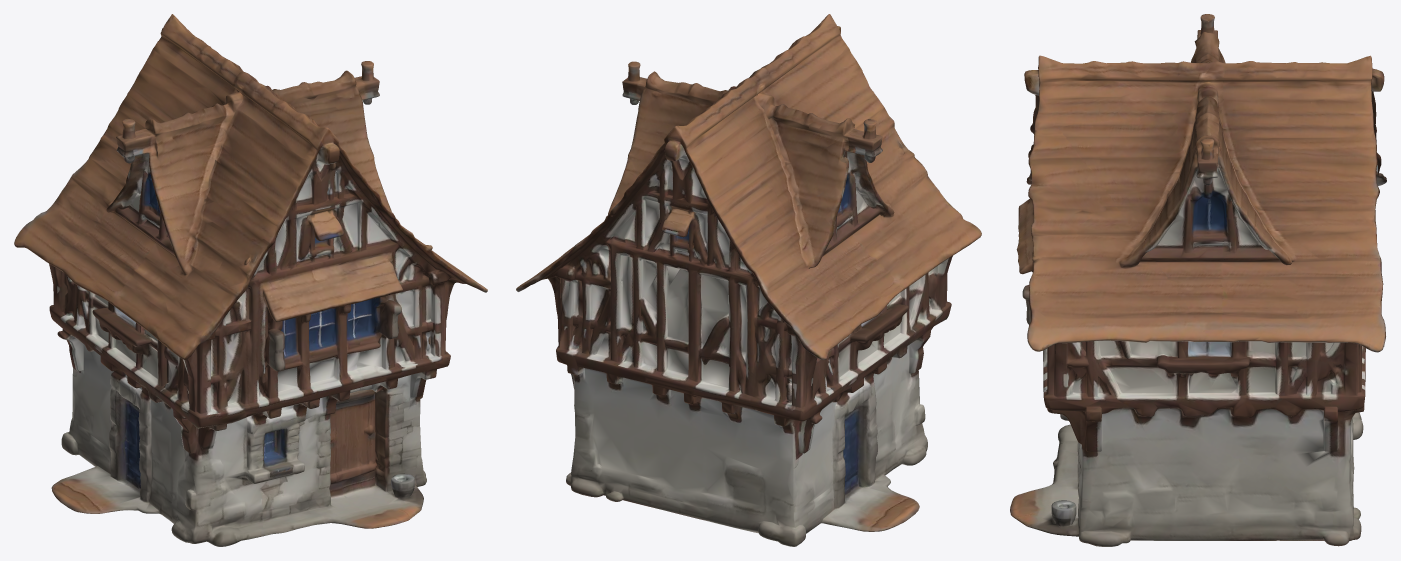
The model's file is casa.glb.
The picture shows the model from 3 angles, left to right: view 1: azimuth 30°, elevation 25°; view 2: azimuth 150°, elevation 25°; view 3: azimuth 270°, elevation 25°; orthographic projection. The views are drawn at different scales.
Visible parts, largest first — view 1: tripo_node_603a3289-d8e4-44f1-99cd-7f3e92ea4356; view 2: tripo_node_603a3289-d8e4-44f1-99cd-7f3e92ea4356; view 3: tripo_node_603a3289-d8e4-44f1-99cd-7f3e92ea4356.
Part boxes in pixels (x1,y1,x2,y2): tripo_node_603a3289-d8e4-44f1-99cd-7f3e92ea4356: (14, 14, 487, 546); tripo_node_603a3289-d8e4-44f1-99cd-7f3e92ea4356: (516, 14, 981, 546); tripo_node_603a3289-d8e4-44f1-99cd-7f3e92ea4356: (1010, 14, 1386, 546).
Size of the model in its own units: 0.8564 by 0.9997 by 0.7936.
Materials: 1 (1 with a texture image).
